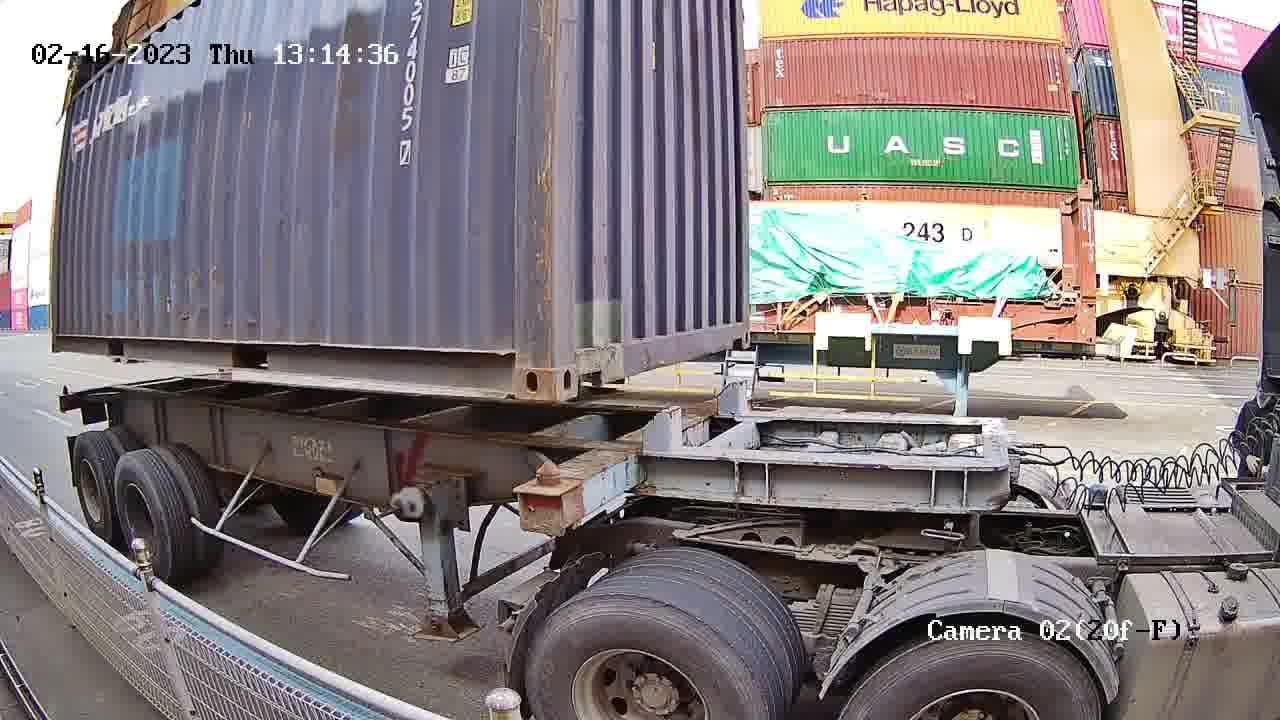Chassis: (517, 384, 769, 524)
Cone: (515, 459, 570, 535)
Hole_L: (553, 314, 618, 407)
Hole_R: (466, 320, 553, 402), (720, 304, 752, 348)
Tire: (526, 597, 754, 718), (841, 634, 1098, 718), (112, 459, 170, 572), (72, 437, 113, 539)
